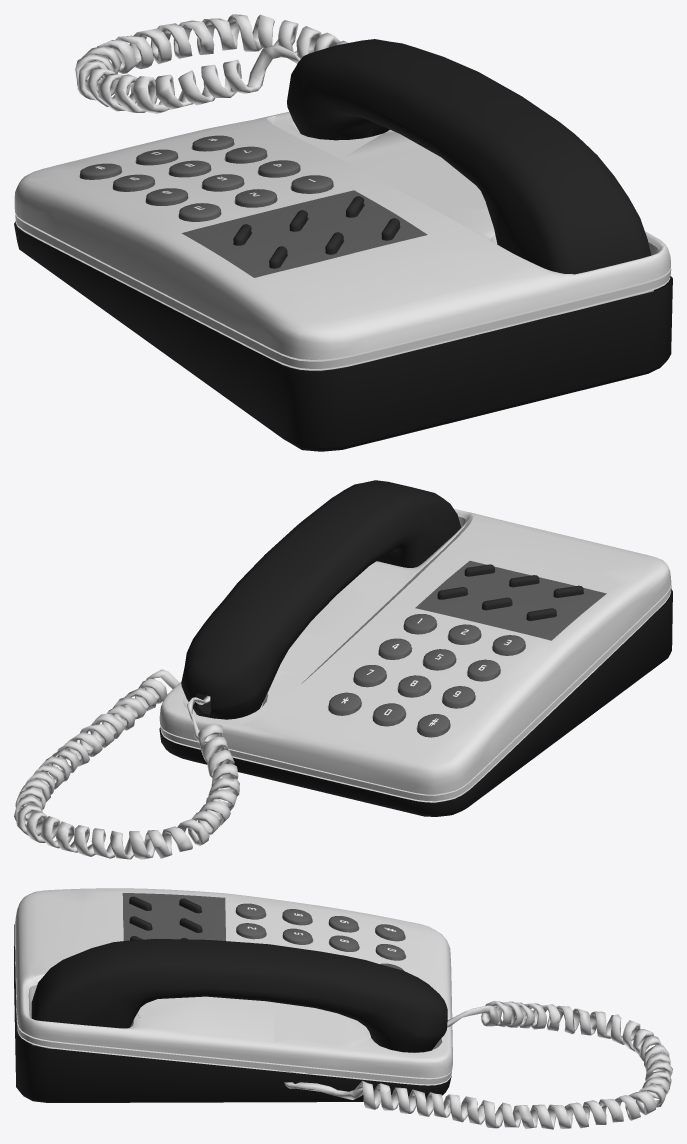
Rendered from Telephone.fbx.
The picture shows the model from 3 angles, top to bottom: view 1: azimuth 30°, elevation 25°; view 2: azimuth 150°, elevation 25°; view 3: azimuth 270°, elevation 25°; orthographic projection. The views are drawn at different scales.
Visible parts, largest first — view 1: Telephone; view 2: Telephone; view 3: Telephone.
Boxes of the visible parts, x1,y1,x2,y2 form: Telephone: [14, 14, 672, 451]; Telephone: [14, 480, 672, 859]; Telephone: [14, 888, 672, 1129].
Bounding box in the file's own units: 482 × 196 × 841.
1 material, 1 textured.
